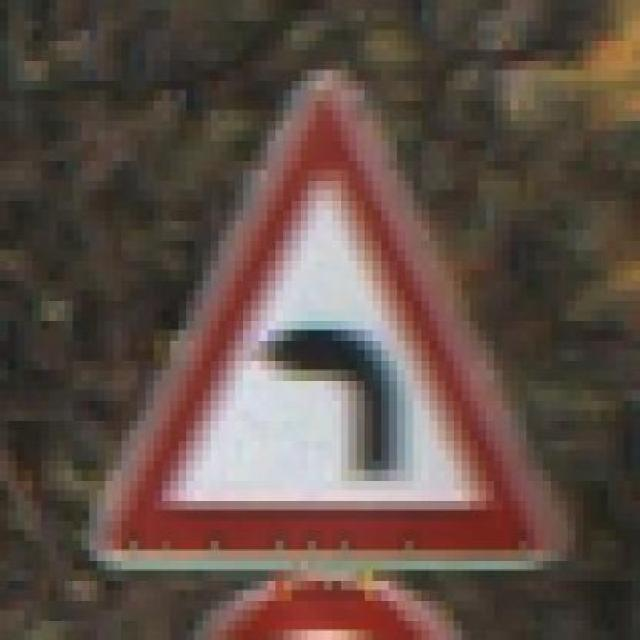Dangerous Left Curve Ahead: (97, 70, 575, 570)
